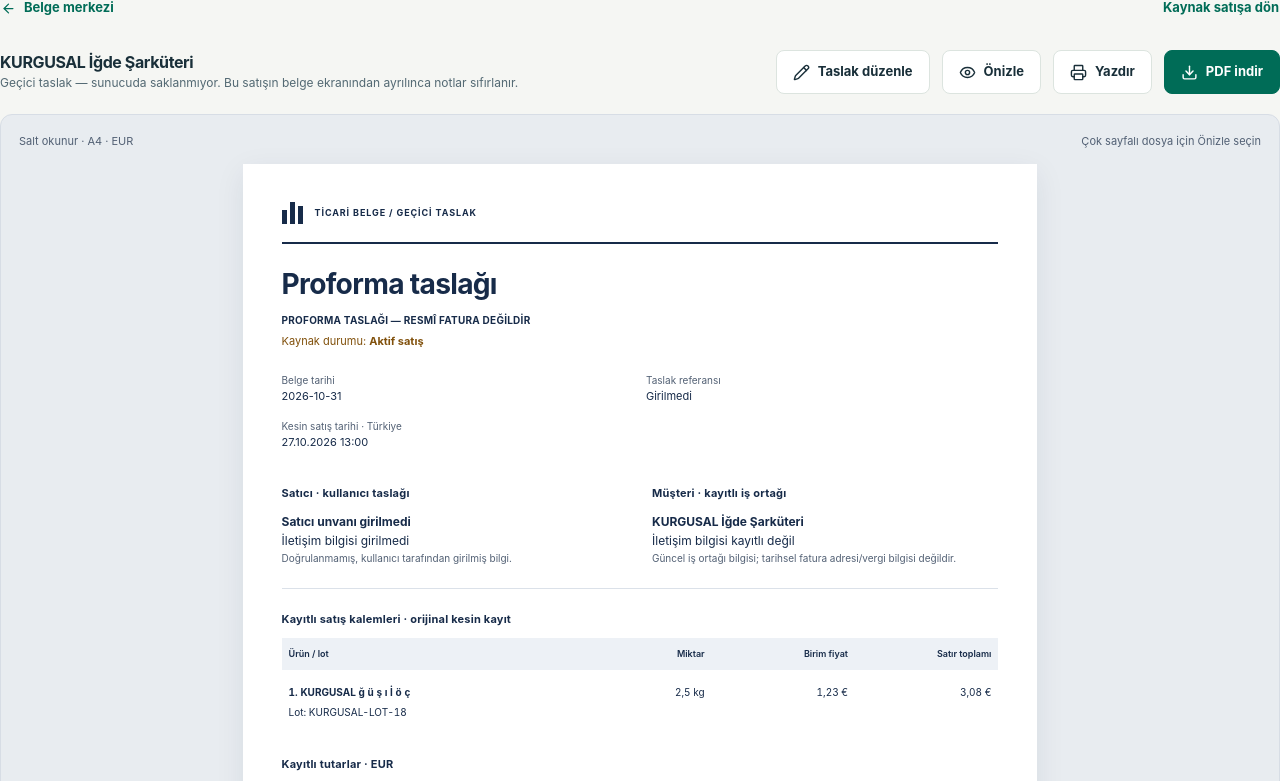
Test: geçici not ayrı düzenleme ekranında uygulanır; yalnız kaynak GET yapılır, satış değişmez
Click the link "Taslak düzenle". click: {"x": 853, "y": 72}
box: [776, 50, 930, 94]
(page scrolled)
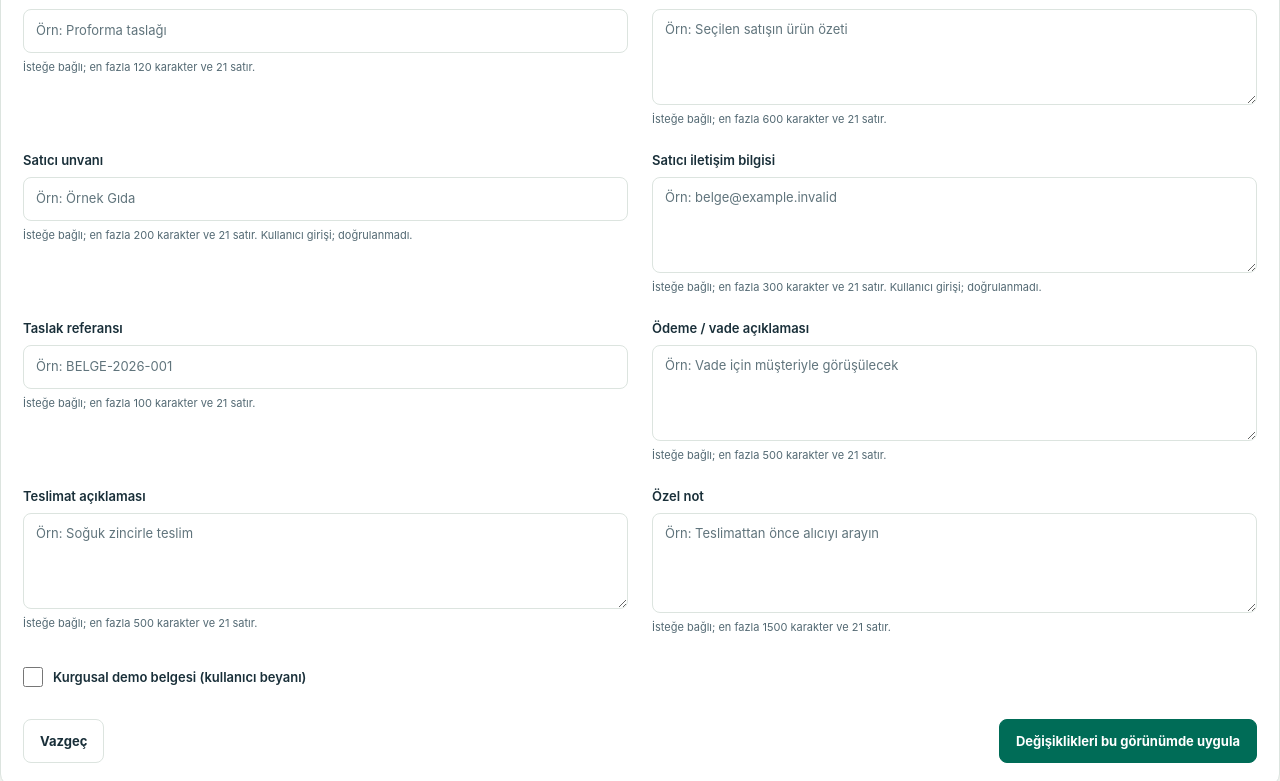
Type "KURGUSAL teslimat ğ ü ş ı İ ö ç" into the text box labelled "Özel not". click: {"x": 954, "y": 563}
box: [652, 513, 1257, 613]
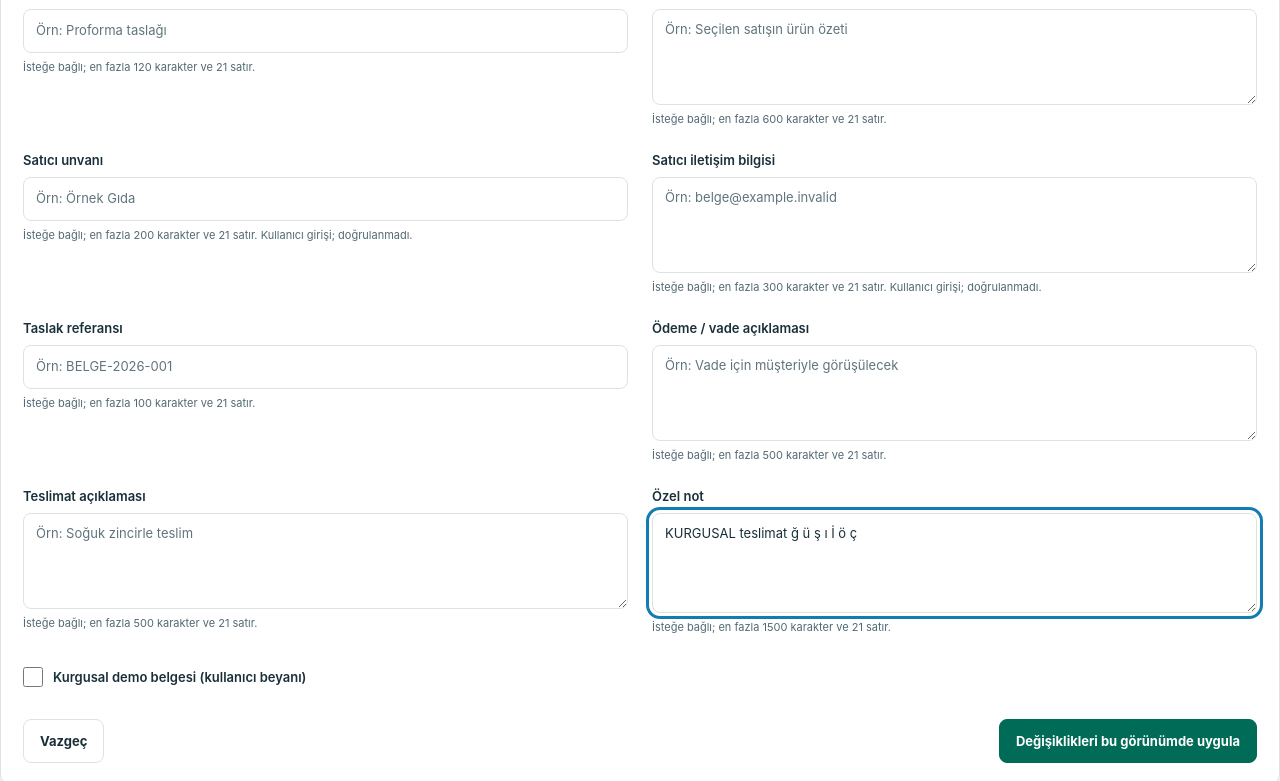
Click the button "Değişiklikleri bu görünümde uygula". click: {"x": 1128, "y": 741}
box: [999, 719, 1257, 763]
(page scrolled)
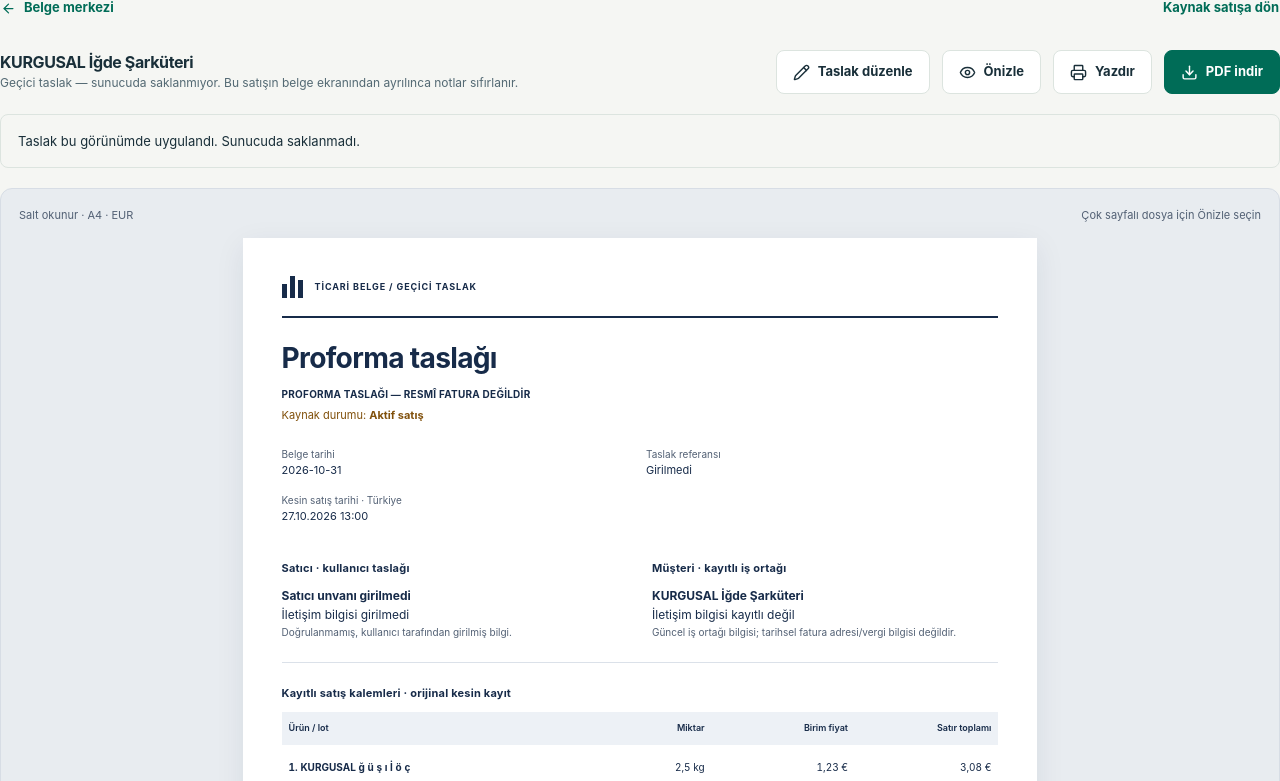
Expected: the label labelled "Özel not" is gone
Expected: the button "PDF indir" is shown, [1164, 50, 1279, 94]
Expected: the button "Yazdır" is shown, [1053, 50, 1152, 94]
